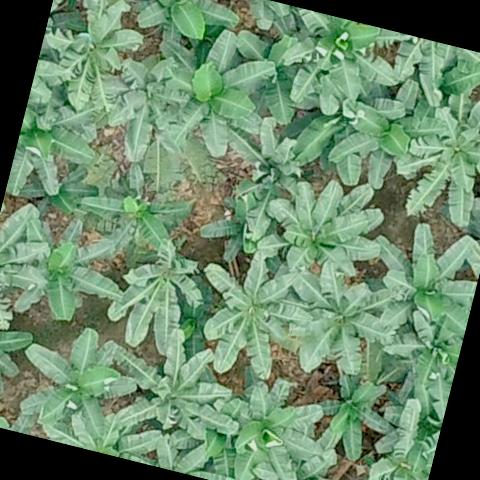Banana-plant: (100, 326, 254, 460), (147, 19, 282, 167), (276, 254, 408, 392), (326, 68, 455, 200), (3, 209, 134, 336), (188, 246, 308, 384), (354, 215, 480, 346), (261, 167, 393, 290), (14, 316, 144, 440), (275, 8, 407, 128), (84, 44, 196, 171), (102, 231, 213, 359), (394, 72, 480, 235), (75, 154, 195, 263), (42, 0, 151, 117), (4, 88, 102, 214), (220, 372, 332, 480), (283, 74, 382, 184), (42, 387, 168, 466), (378, 312, 466, 420), (222, 28, 313, 121), (314, 368, 401, 463), (123, 0, 243, 67), (0, 197, 58, 332), (225, 120, 304, 217), (363, 404, 443, 480), (17, 158, 92, 224), (0, 310, 35, 410)
